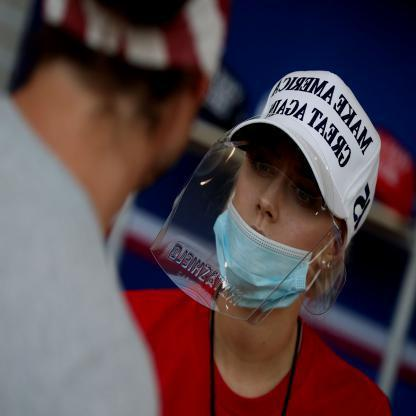mask_weared_incorrect: (206, 130, 350, 318)
